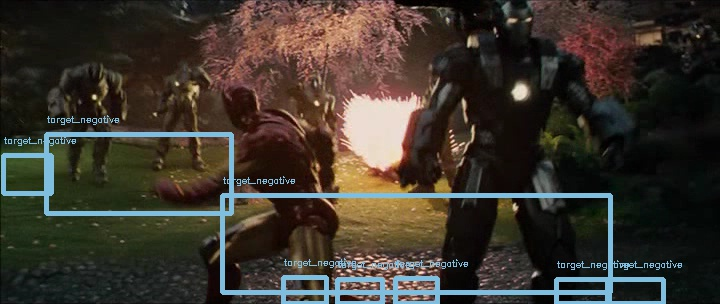person: (218, 80, 256, 124), (217, 80, 255, 124), (219, 80, 257, 124), (218, 79, 256, 123), (218, 81, 256, 125)
target_negative: (122, 92, 327, 223), (521, 133, 602, 268), (126, 285, 310, 297), (364, 288, 391, 291), (699, 292, 714, 297), (613, 257, 621, 258)
